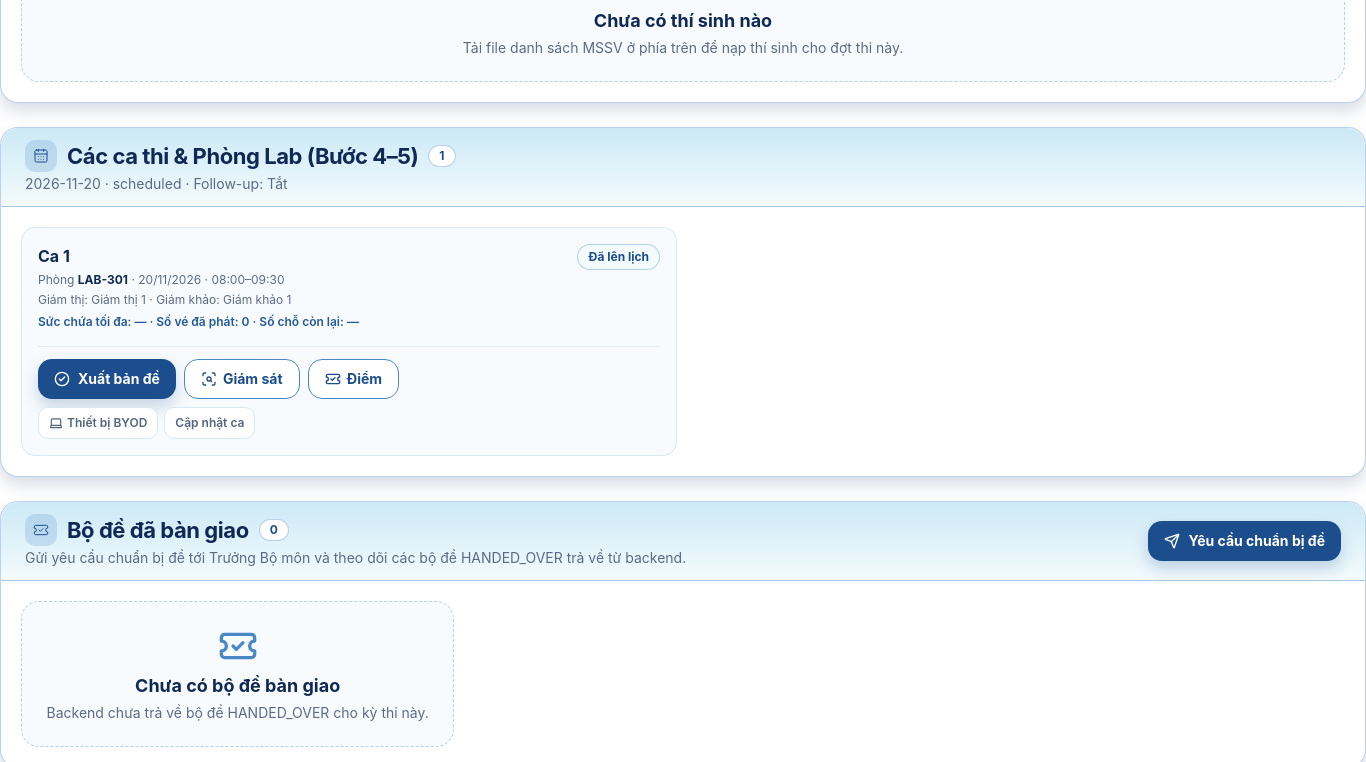
it: EO Design-System Dialogs (zero window.confirm / window.prompt) › uses ConfirmDialog instead of window.confirm to publish a shift in ExaminationOfficerExamDetailPage
(page scrolled)
Click the button "Xuất bản đề": (107, 379) [38,359,176,399]
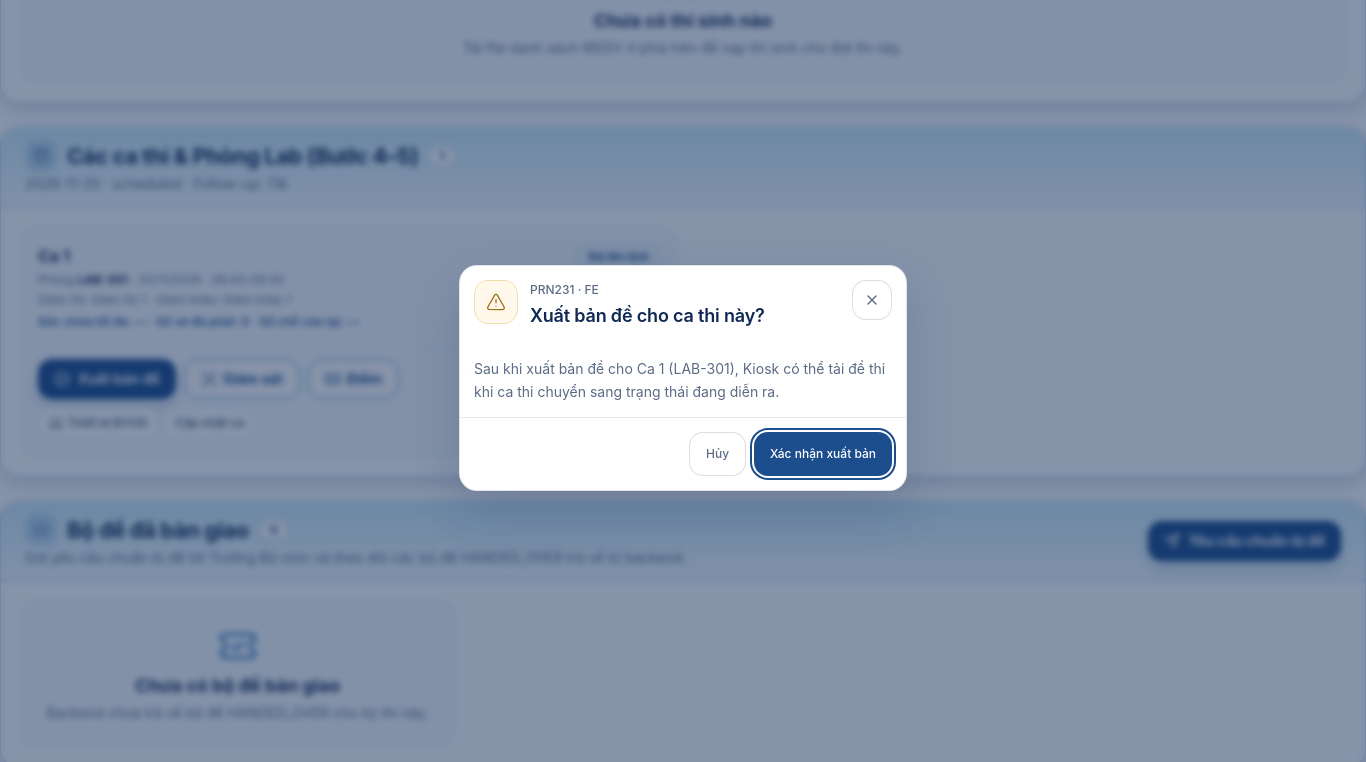
Expected: the dialog is shown, [459,265,907,491]
Click the button "Xác nhận xuất bản": (823, 454) [754,432,892,476]
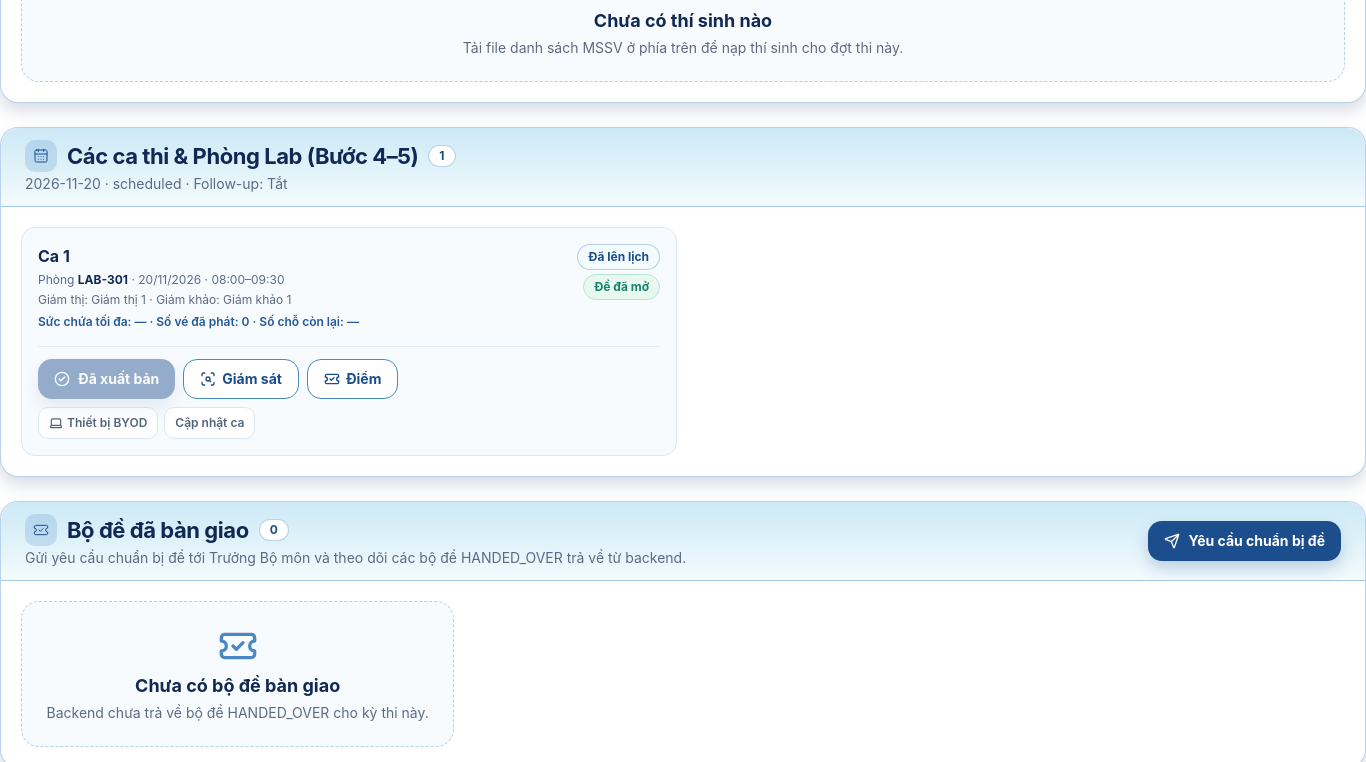
Expected: the text "Đã lên lịch" is shown, [577,244,660,270]
Expected: the button "Đã xuất bản" is disabled, [38,359,175,399]
